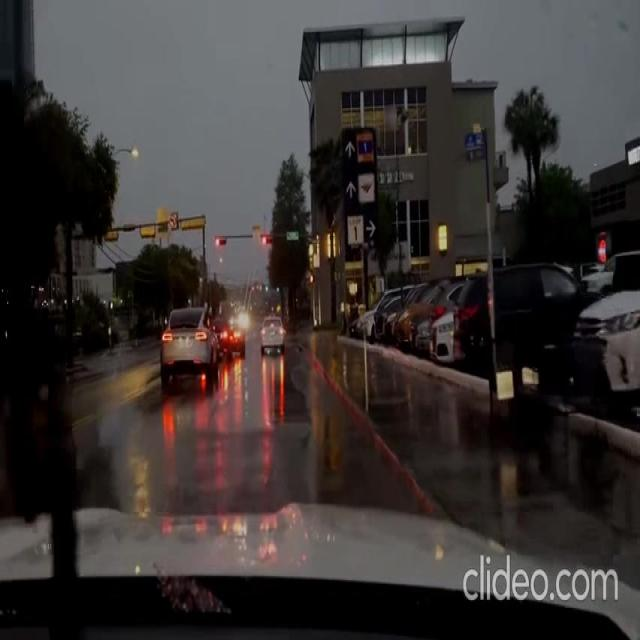Car: (578, 270, 639, 397), (432, 277, 501, 362), (398, 268, 463, 356), (159, 306, 217, 382), (355, 282, 419, 348), (211, 317, 233, 365), (259, 316, 287, 351), (227, 322, 247, 360)
